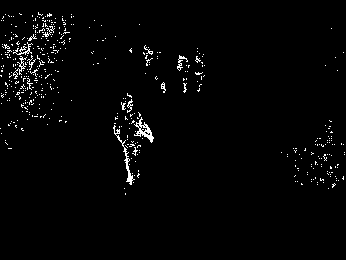person: (111, 91, 156, 186)
